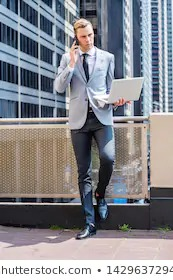F_M_suit jacket: (51, 46, 121, 132)
